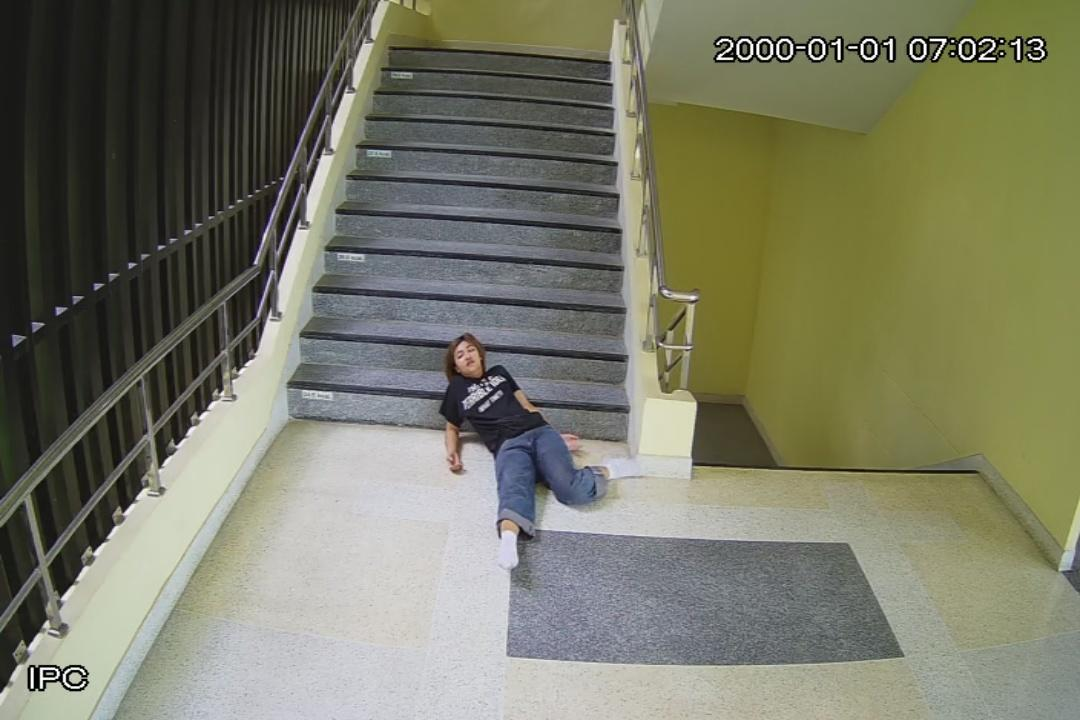fall: (447, 335, 638, 564)
